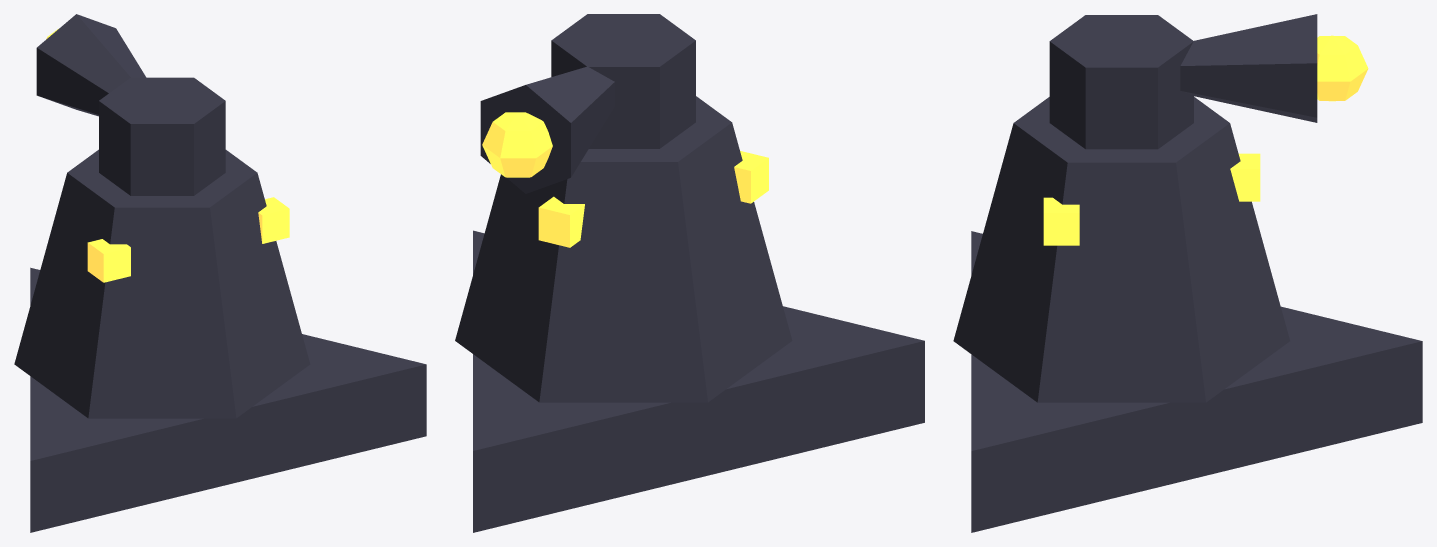
File: tower_flame.glb
3 views of the same model, side by side, from view 1: azimuth 30°, elevation 25°; view 2: azimuth 150°, elevation 25°; view 3: azimuth 270°, elevation 25° (orthographic). The views are drawn at different scales.
Parts seen in each view (by area): view 1: tower_flame; view 2: tower_flame; view 3: tower_flame.
Boxes of the visible parts, box(x1,y1,x2,y2) form: tower_flame: box(14, 14, 426, 532); tower_flame: box(455, 14, 924, 532); tower_flame: box(953, 14, 1422, 532).
Size of the model in its own units: 0.866 by 0.75 by 0.78.
